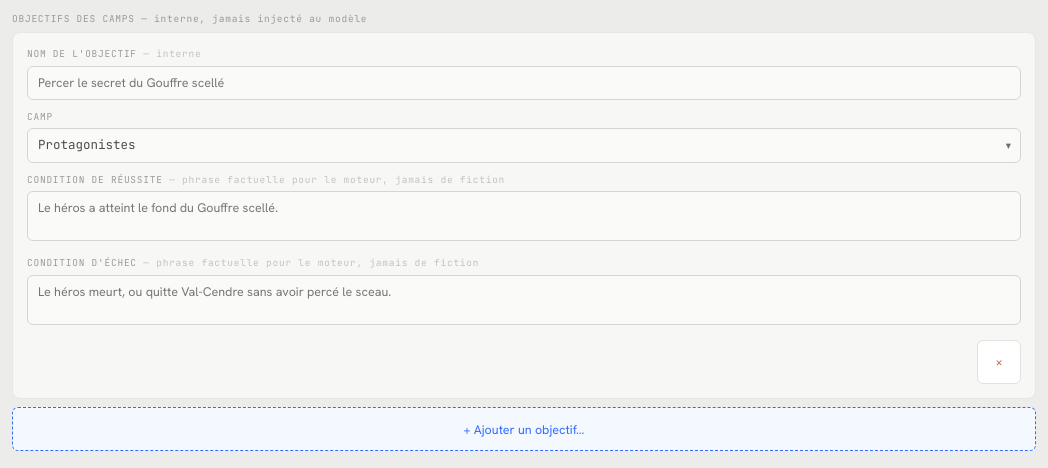
it: ObjectifsCanon › retirer un objectif le supprime immediatement, sans dialogue de confirmation
Step 1. Click the button named "Retirer l'objectif n°1" → (999, 362), box [977, 340, 1021, 384]
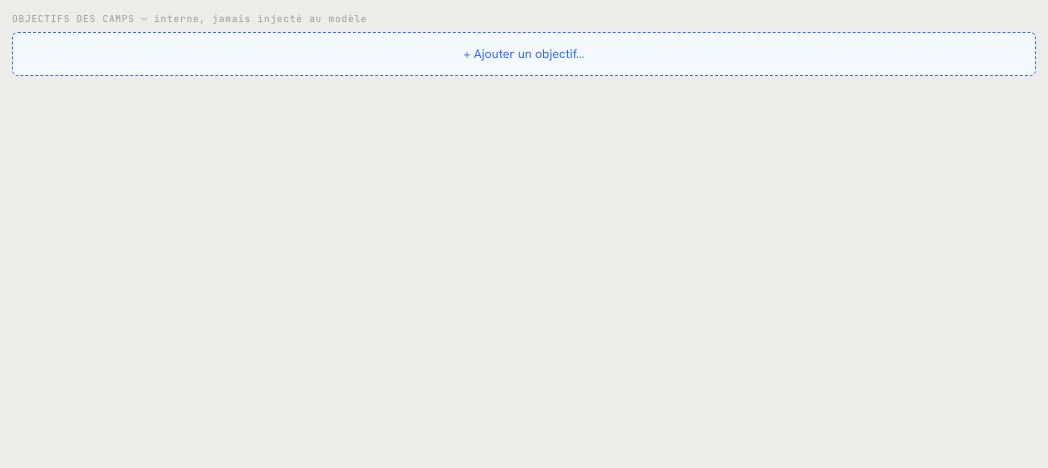
Expected: the field labelled "nom de l.objectif" is gone
